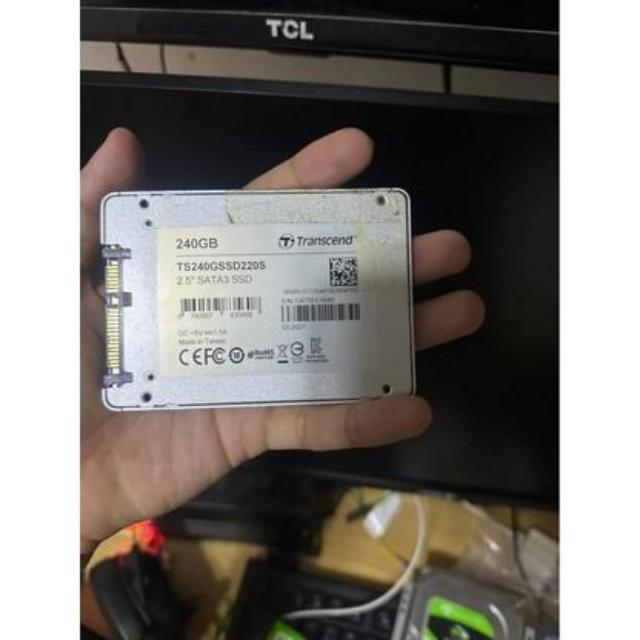DISK: (94, 186, 420, 417)
